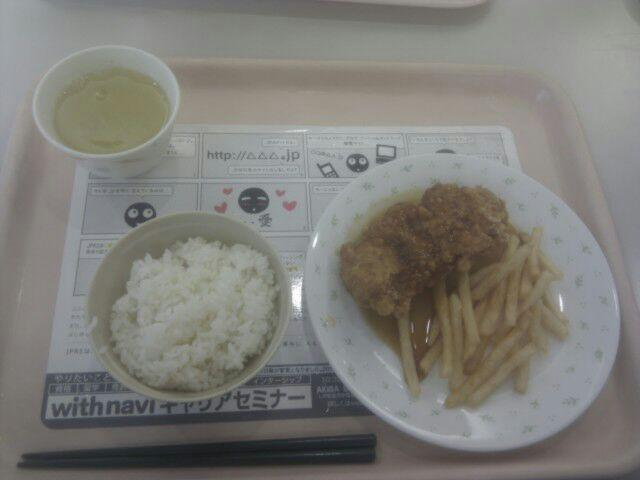rice: (109, 237, 279, 389)
